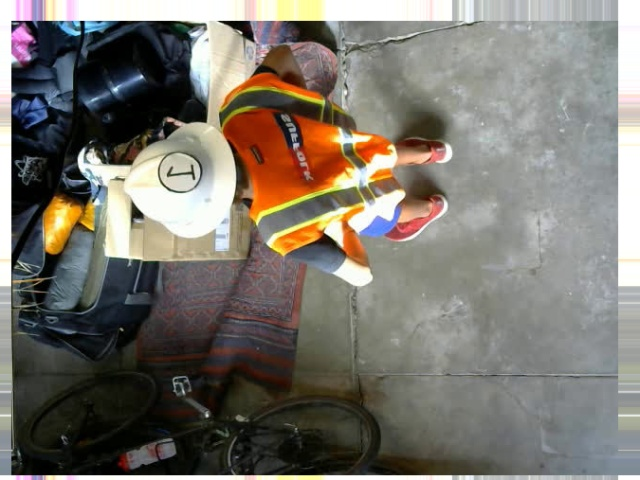one: (158, 151, 201, 191)
